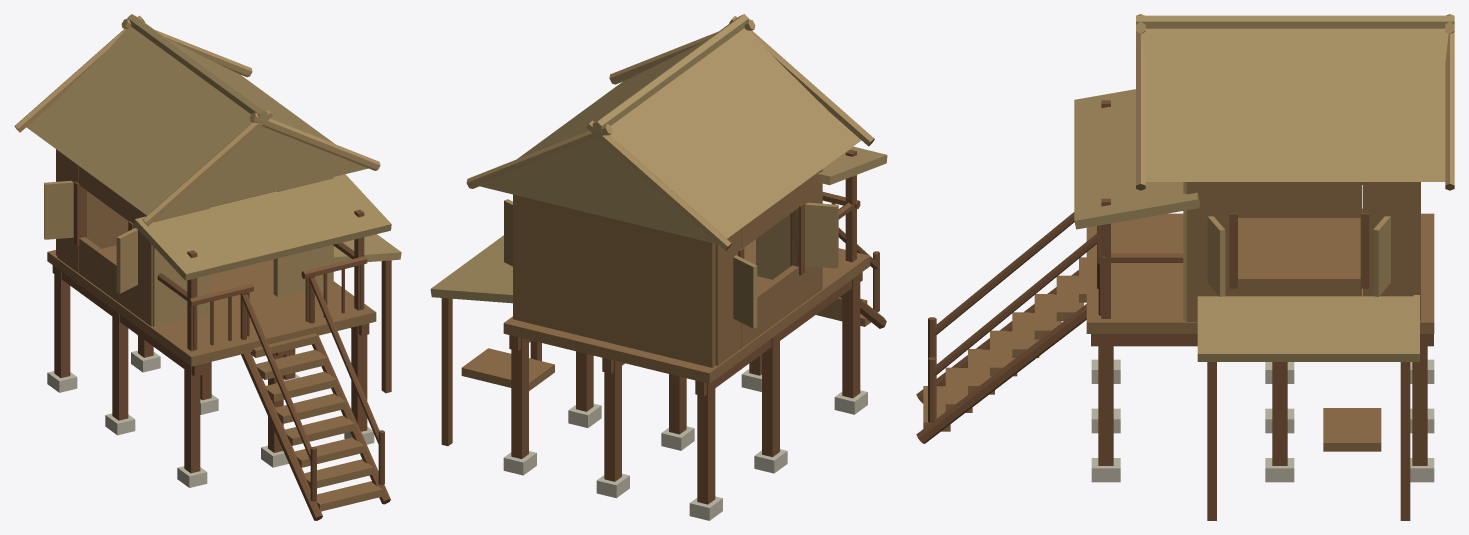
Rendered from house-kitchen-normal.glb.
3 renders of one model, left to right at view 1: azimuth 30°, elevation 25°; view 2: azimuth 150°, elevation 25°; view 3: azimuth 270°, elevation 25°, orthographic. The views are drawn at different scales.
Visible parts, largest first — view 1: house-kitchen; view 2: house-kitchen; view 3: house-kitchen.
Boxes of the visible parts, x1,y1,x2,y2 form: house-kitchen: (14,14,401,520); house-kitchen: (430,14,887,520); house-kitchen: (916,14,1454,520).
Bounding box in the file's own units: 4.07 × 4.71 × 5.58.
